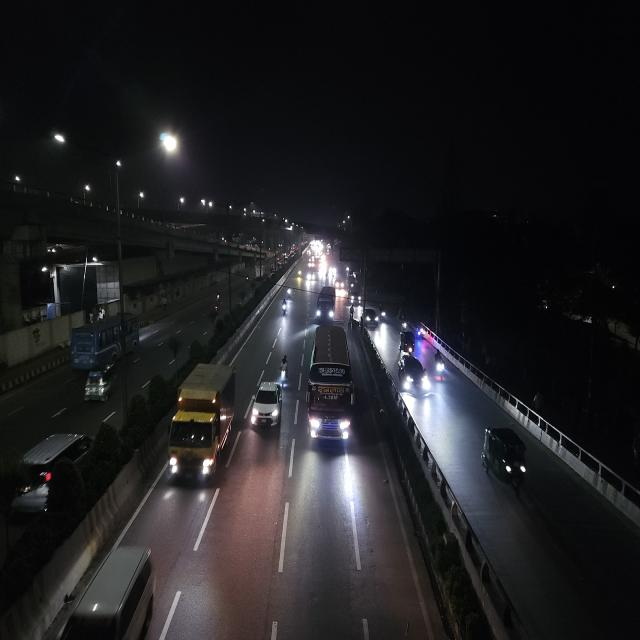bus: (304, 319, 356, 453), (71, 312, 145, 369), (315, 284, 338, 322)
car: (24, 540, 161, 640), (13, 424, 92, 510), (249, 374, 285, 435), (396, 351, 433, 401), (364, 307, 378, 328), (335, 278, 345, 292)
cng: (479, 422, 531, 498), (82, 361, 118, 406), (399, 328, 416, 356)
motorcycle: (432, 350, 448, 383), (278, 352, 290, 386), (212, 289, 224, 316), (279, 299, 289, 319), (379, 306, 389, 325), (398, 314, 408, 332), (284, 284, 294, 300)
truck: (167, 359, 237, 490)
